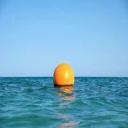yellow: (53, 63, 75, 86)
